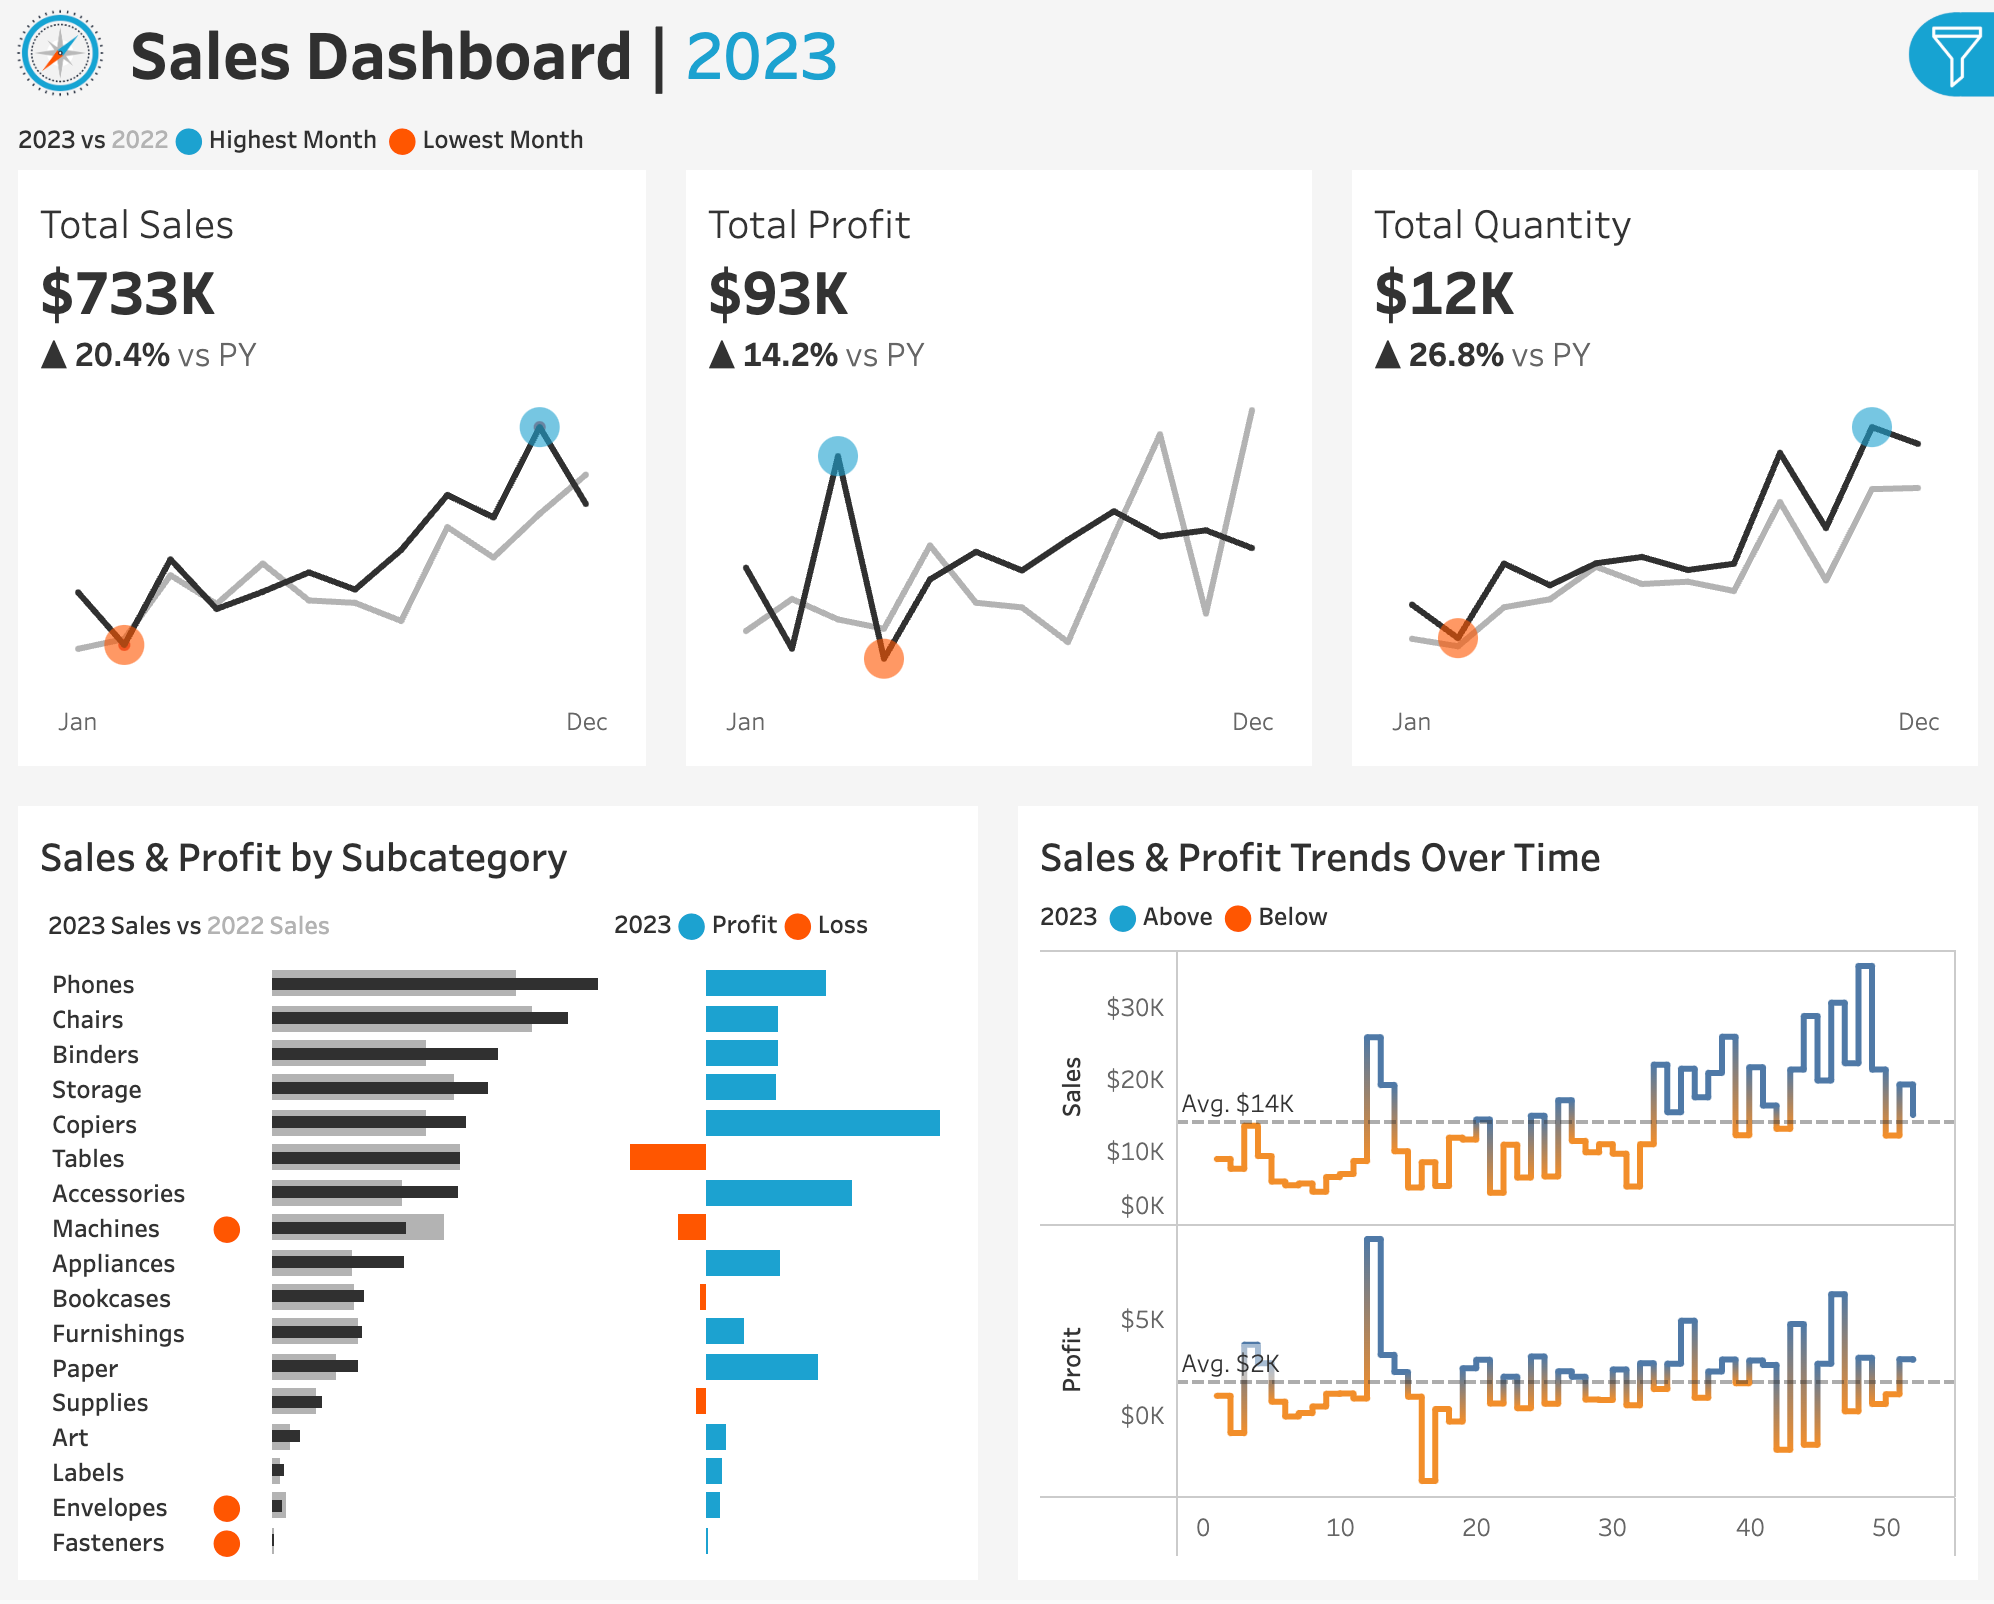

Layout of this report page (visuals, bound fields, positions):
{"tool":"tableau","page":{"name":"Sales Dashboard","canvas":[1000,800],"ordinal":0},"visuals":[{"type":"image","param":"Image/Icon - Logo.png","box":[0,0,62,53]},{"type":"text","box":[62,0,587,53]},{"type":"blank","box":[809,11,180,153]},{"type":"worksheet","title":"KPI Legend","mark":"Automatic","box":[0,53,1000,32]},{"type":"worksheet","title":"Sales KPI","mark":"Automatic","rows":["Calculation_2715811363562987524"],"cols":["Order Date"],"box":[0,85,334,308]},{"type":"worksheet","title":"Profit KPI","mark":"Line","rows":["Min/Max Sales (copy 2)_2715811363648536601"],"cols":["Order Date"],"box":[334,85,333,308]},{"type":"worksheet","title":"Quantity KPI","mark":"Line","rows":["Min/Max Sales (copy)_2715811363648520216"],"cols":["Order Date"],"box":[667,85,333,308]},{"type":"text","box":[809,164,180,34]},{"type":"parameter","param":"[Parameters].[Parameter 1]","box":[809,198,180,52]},{"type":"blank","box":[809,250,180,33]},{"type":"text","box":[809,283,180,29]},{"type":"filter","title":"Sales KPI","param":"[federated.1h826nj1nw1y0q1192nnx124m4bq].[none:Category:nk]","box":[809,312,180,52]},{"type":"filter","title":"Sales KPI","param":"[federated.1h826nj1nw1y0q1192nnx124m4bq].[none:Sub-Category:nk]","box":[809,364,180,52]},{"type":"text","box":[17,410,466,34]},{"type":"text","box":[517,410,466,34]},{"type":"blank","box":[809,416,180,33]},{"type":"worksheet","title":"Subcategory Legend","mark":"Automatic","box":[17,444,287,34]},{"type":"text","box":[304,444,179,34]},{"type":"text","box":[517,444,466,25]},{"type":"text","box":[809,449,180,29]},{"type":"worksheet","title":"Weekly Trends","mark":"Automatic","rows":["Calculation_2715811363556495360","CY Sales (copy)_2715811363632594953"],"cols":["Order Date"],"box":[517,469,466,314]},{"type":"worksheet","title":"Subcategory Comparison","mark":"Bar","rows":["Sub-Category","Calculation_2715811363854241818"],"cols":["Calculation_2715811363557081089","Calculation_2715811363556495360","CY Sales (copy)_2715811363632594953"],"box":[17,478,466,304.9]},{"type":"filter","title":"Sales KPI","param":"[federated.1h826nj1nw1y0q1192nnx124m4bq].[none:Region:nk]","box":[809,478,180,52]},{"type":"filter","title":"Sales KPI","param":"[federated.1h826nj1nw1y0q1192nnx124m4bq].[none:State:nk]","box":[809,530,180,52]},{"type":"filter","title":"Sales KPI","param":"[federated.1h826nj1nw1y0q1192nnx124m4bq].[none:City:nk]","box":[809,582,180,52]},{"type":"blank","box":[809,634,180,155]}]}

Visuals, with their boxes in screenshot pixels (x1, y1, x2, y2), scaled from the page's 1000x800 canvas onto the 1994x1604 screenshot:
image: 0:0:124:106
text: 124:0:1294:106
blank: 1613:22:1972:329
"KPI Legend" worksheet: 0:106:1993:170
"Sales KPI" worksheet: 0:170:666:788
"Profit KPI" worksheet (Line marks): 666:170:1330:788
"Quantity KPI" worksheet (Line marks): 1330:170:1993:788
text: 1613:329:1972:397
parameter: 1613:397:1972:501
blank: 1613:501:1972:567
text: 1613:567:1972:626
"Sales KPI" filter: 1613:626:1972:730
"Sales KPI" filter: 1613:730:1972:834
text: 34:822:963:890
text: 1031:822:1960:890
blank: 1613:834:1972:900
"Subcategory Legend" worksheet: 34:890:606:958
text: 606:890:963:958
text: 1031:890:1960:940
text: 1613:900:1972:958
"Weekly Trends" worksheet: 1031:940:1960:1570
"Subcategory Comparison" worksheet (Bar marks): 34:958:963:1570
"Sales KPI" filter: 1613:958:1972:1063
"Sales KPI" filter: 1613:1063:1972:1167
"Sales KPI" filter: 1613:1167:1972:1271
blank: 1613:1271:1972:1582
